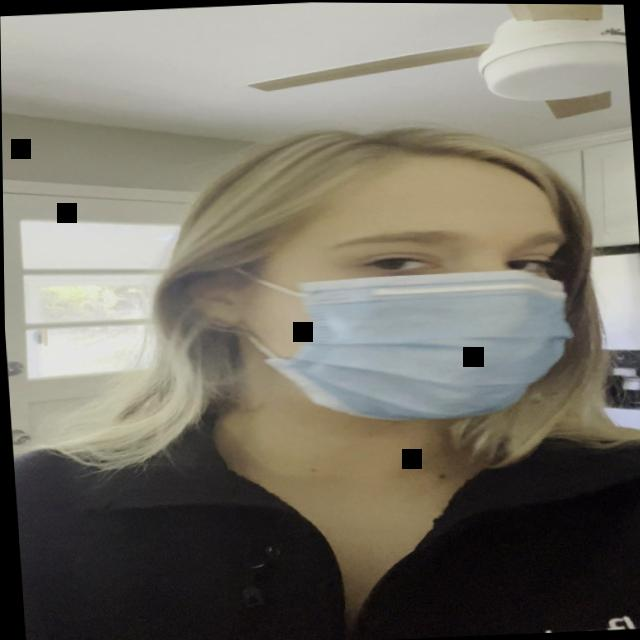Mask: (223, 143, 583, 431)
